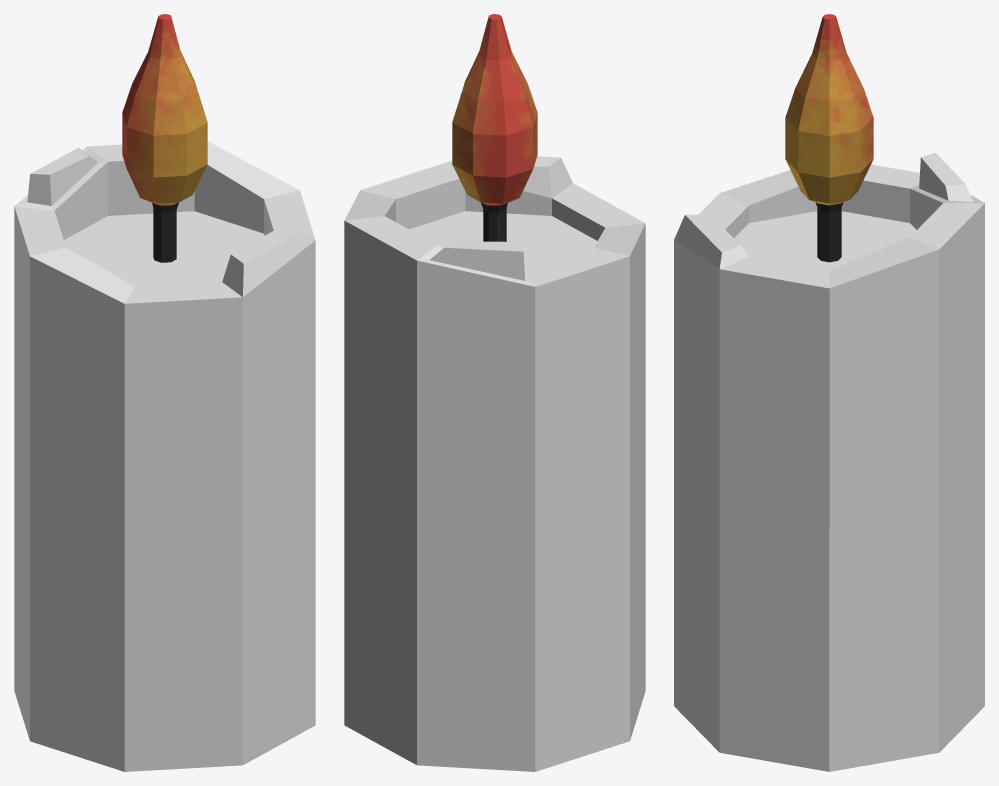
File: CandleMedium.fbx
The picture shows the model from 3 angles, left to right: view 1: azimuth 30°, elevation 25°; view 2: azimuth 150°, elevation 25°; view 3: azimuth 270°, elevation 25°; orthographic projection.
Visible parts, largest first — view 1: CandleMedium; view 2: CandleMedium; view 3: CandleMedium.
Boxes of the visible parts, x1=… form: CandleMedium: x1=14, y1=14, x2=315, y2=771; CandleMedium: x1=344, y1=14, x2=645, y2=771; CandleMedium: x1=674, y1=14, x2=984, y2=771.
Size of the model in its own units: 6 by 14.69 by 6.
